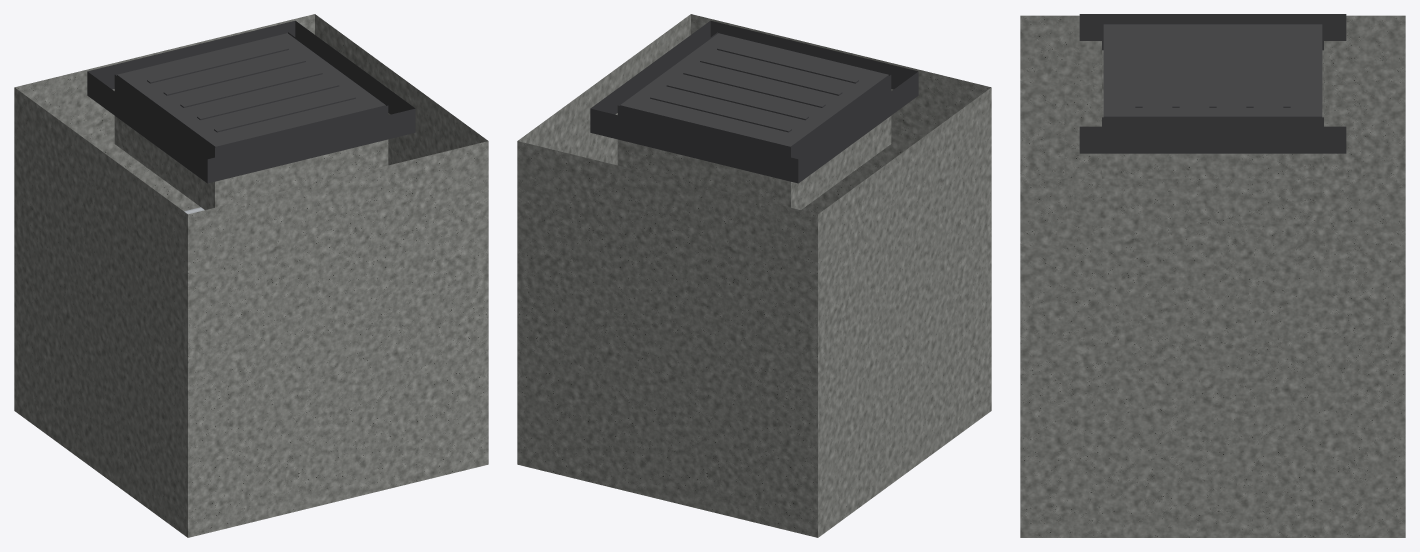
3 renders of one model, left to right at view 1: azimuth 30°, elevation 25°; view 2: azimuth 150°, elevation 25°; view 3: azimuth 270°, elevation 25°, orthographic. The views are drawn at different scales.
Visible parts, largest first — view 1: coverLevelOffset=0;coverMaterial=cast_iron;coverShape=square (×2); view 2: coverLevelOffset=0;coverMaterial=cast_iron;coverShape=square (×2); view 3: coverLevelOffset=0;coverMaterial=cast_iron;coverShape=square (×2).
Part boxes in pixels (left/top/right/bottom): coverLevelOffset=0;coverMaterial=cast_iron;coverShape=square (×2): left=14, top=14, right=488, bottom=537; coverLevelOffset=0;coverMaterial=cast_iron;coverShape=square (×2): left=517, top=14, right=991, bottom=537; coverLevelOffset=0;coverMaterial=cast_iron;coverShape=square (×2): left=1020, top=14, right=1405, bottom=537.
Size of the model in its own units: 1.04 by 1.04 by 1.15.
Materials: 3 (1 with a texture image).
